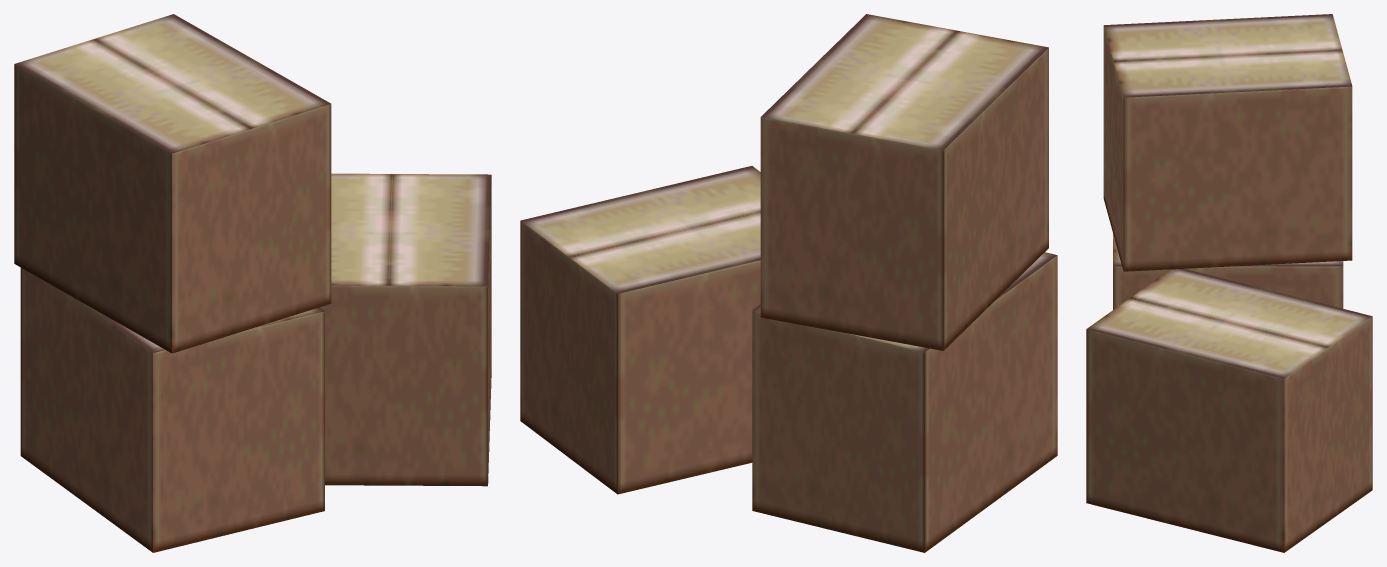
File: Poly_SF_Outside_B_Cardboard_Box_02.obj
3 views of the same model, side by side, from view 1: azimuth 30°, elevation 25°; view 2: azimuth 150°, elevation 25°; view 3: azimuth 270°, elevation 25° (orthographic). The views are drawn at different scales.
Visible parts, largest first — view 1: Cube.002, Cube.001, Cube.003; view 2: Cube.002, Cube.003, Cube.001; view 3: Cube.003, Cube.002, Cube.001.
Part boxes in pixels (x1,y1,x2,y2): Cube.002: (14,14,331,353); Cube.001: (20,268,324,552); Cube.003: (320,173,491,486); Cube.002: (760,14,1048,350); Cube.003: (520,166,760,494); Cube.001: (752,252,1057,552); Cube.003: (1086,268,1372,552); Cube.002: (1103,14,1352,271); Cube.001: (1113,233,1343,309).
Bounding box in the file's own units: 1.18 × 1 × 0.7457.
Materials: 1 (1 with a texture image).
